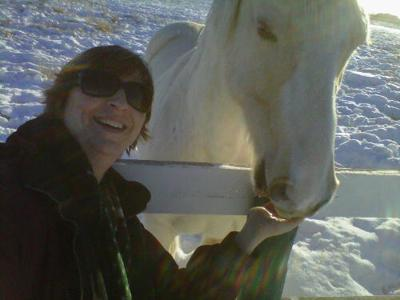person: (2, 45, 305, 300)
